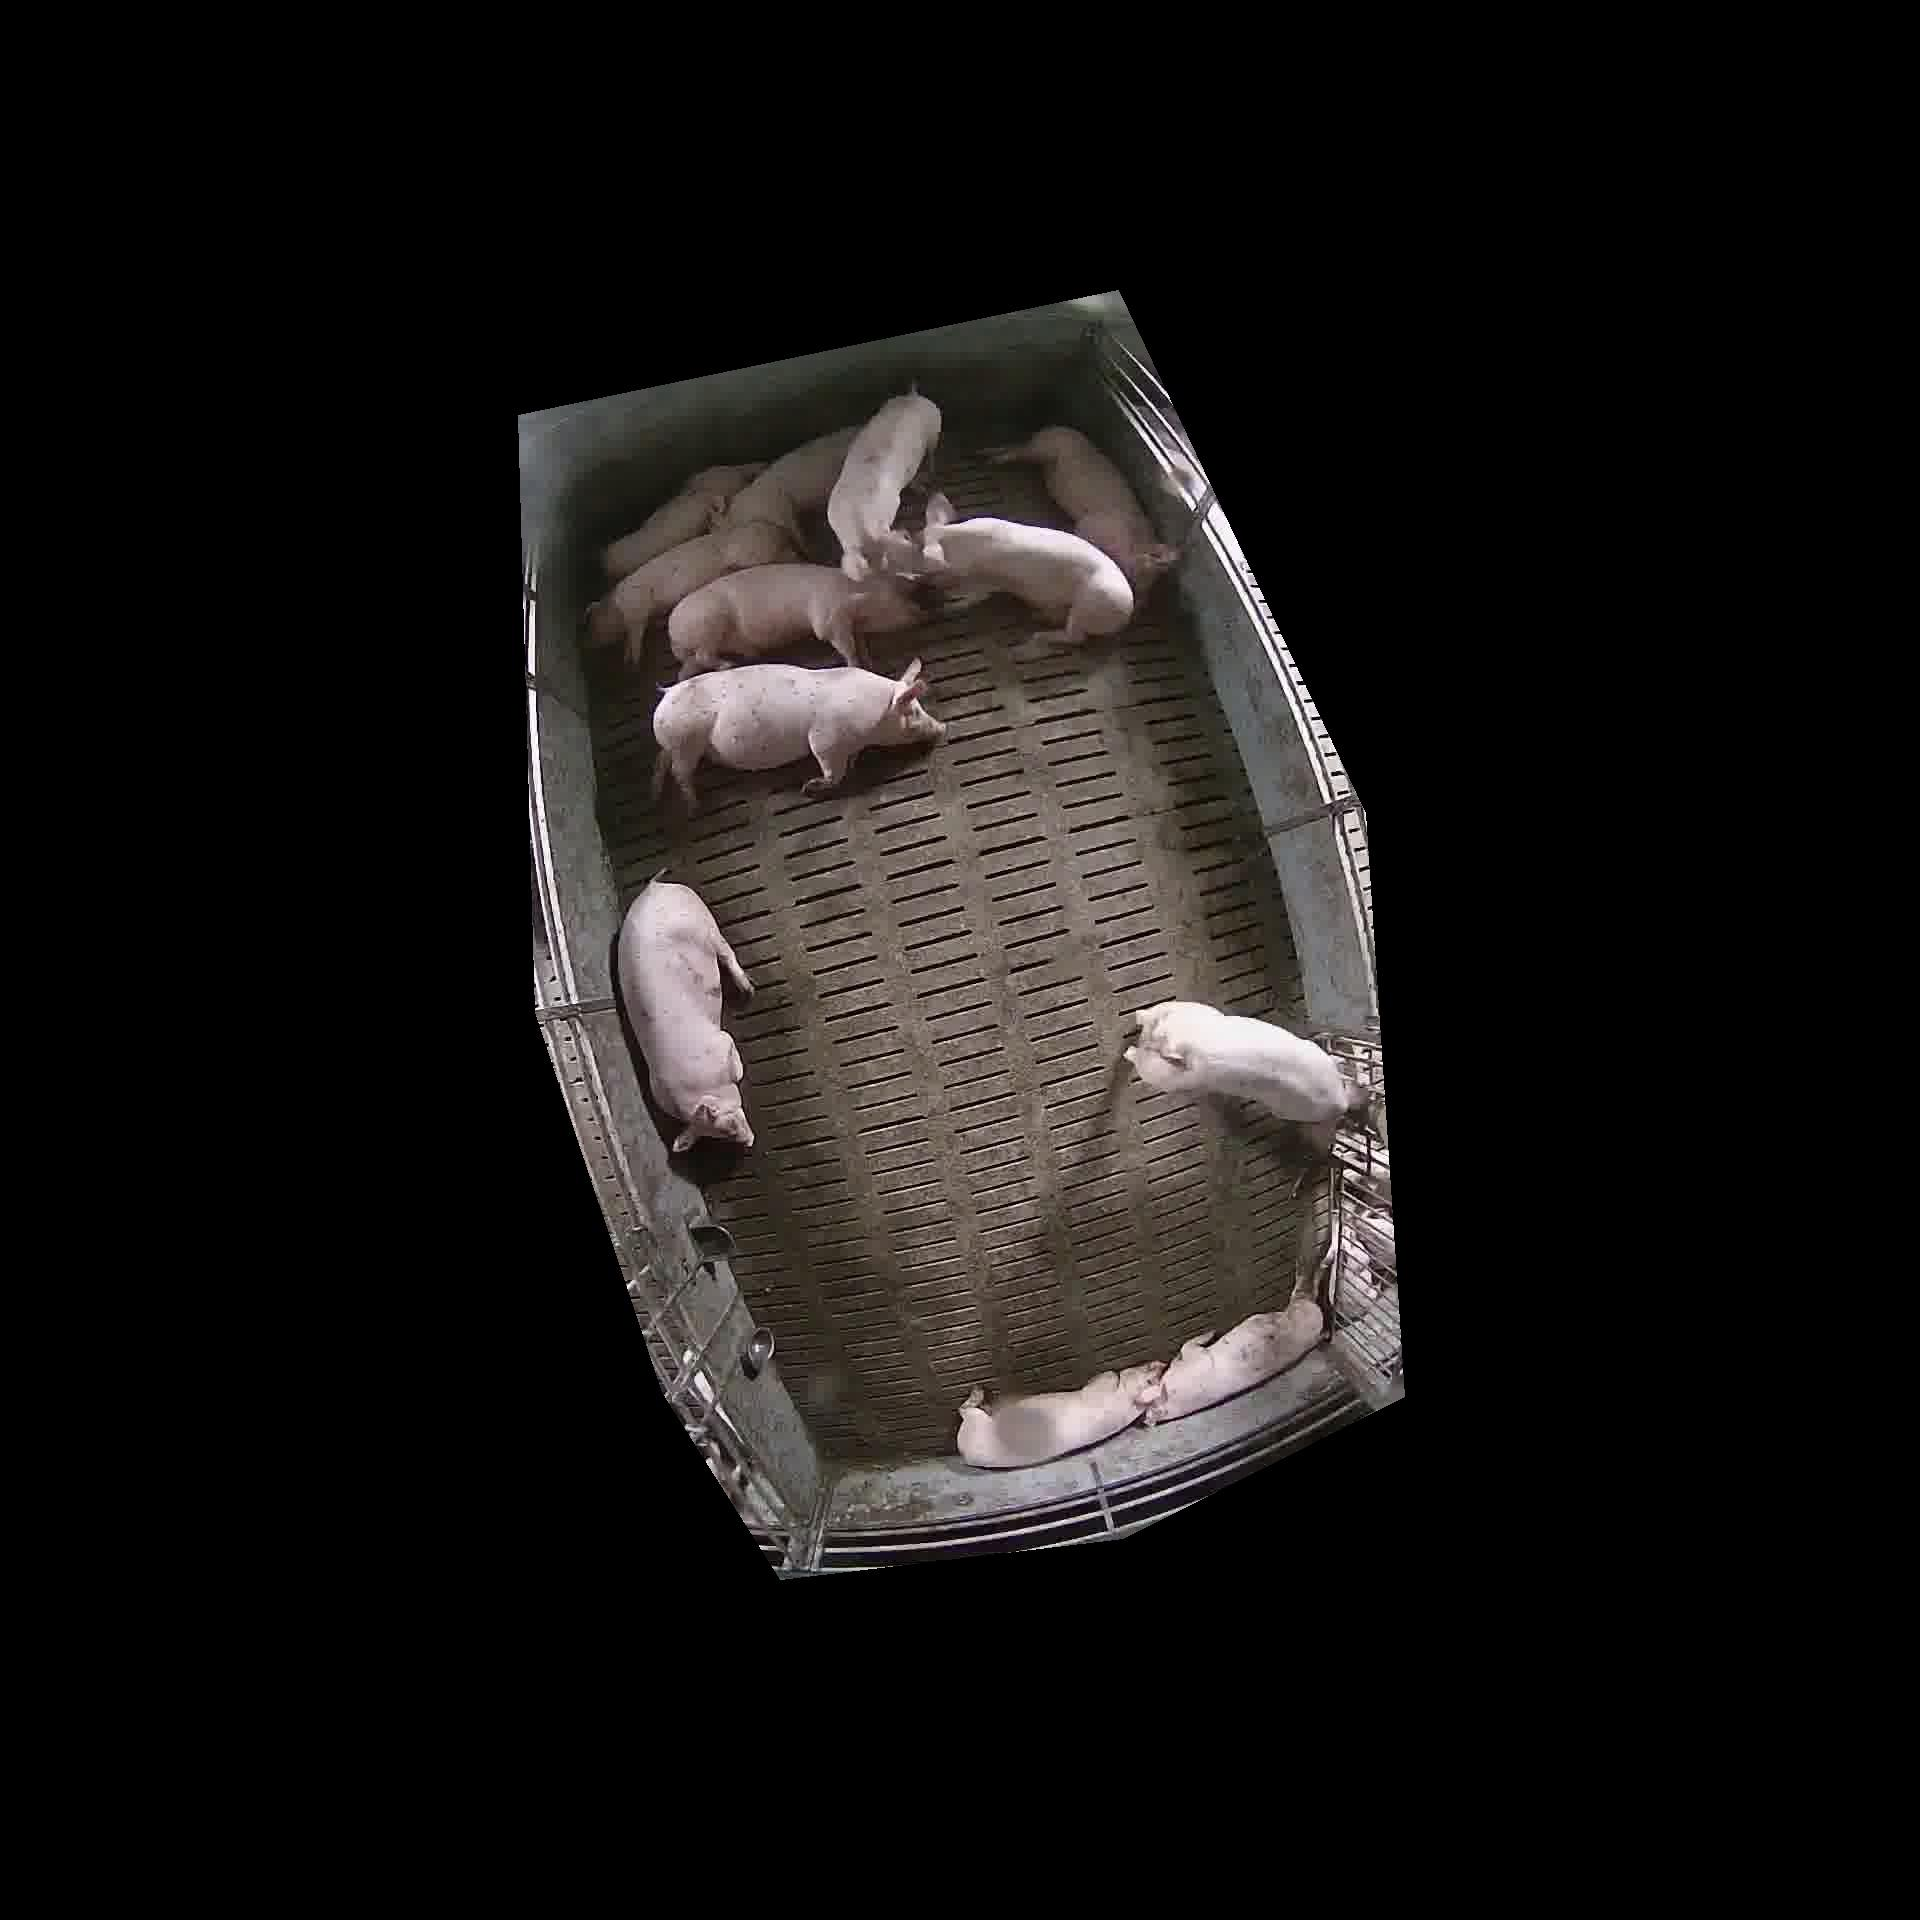pig: (652, 659, 944, 809), (617, 879, 753, 1152), (921, 492, 1132, 656), (587, 520, 796, 665), (988, 425, 1176, 585), (668, 563, 925, 677), (1125, 1002, 1352, 1124), (1145, 1298, 1324, 1422), (826, 390, 941, 580), (956, 1363, 1162, 1466), (601, 464, 761, 582), (717, 425, 855, 536)
